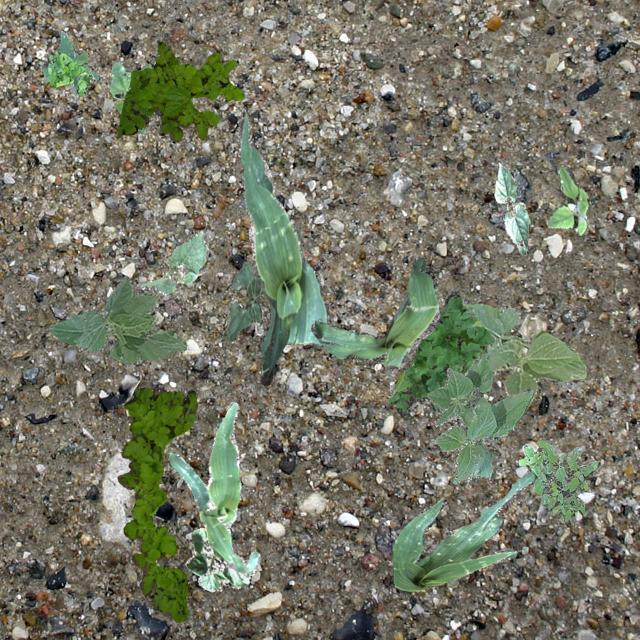crop: (236, 110, 326, 384), (392, 470, 532, 592), (168, 400, 260, 576), (311, 256, 438, 370), (426, 352, 532, 483), (460, 302, 586, 406), (48, 278, 185, 362), (136, 230, 208, 294), (184, 526, 250, 590), (494, 162, 528, 255), (225, 260, 262, 340)
weed: (116, 386, 196, 622), (115, 41, 242, 140), (386, 290, 489, 412), (518, 438, 600, 520), (42, 30, 100, 96), (106, 60, 152, 134), (546, 166, 588, 233), (46, 51, 90, 94)
